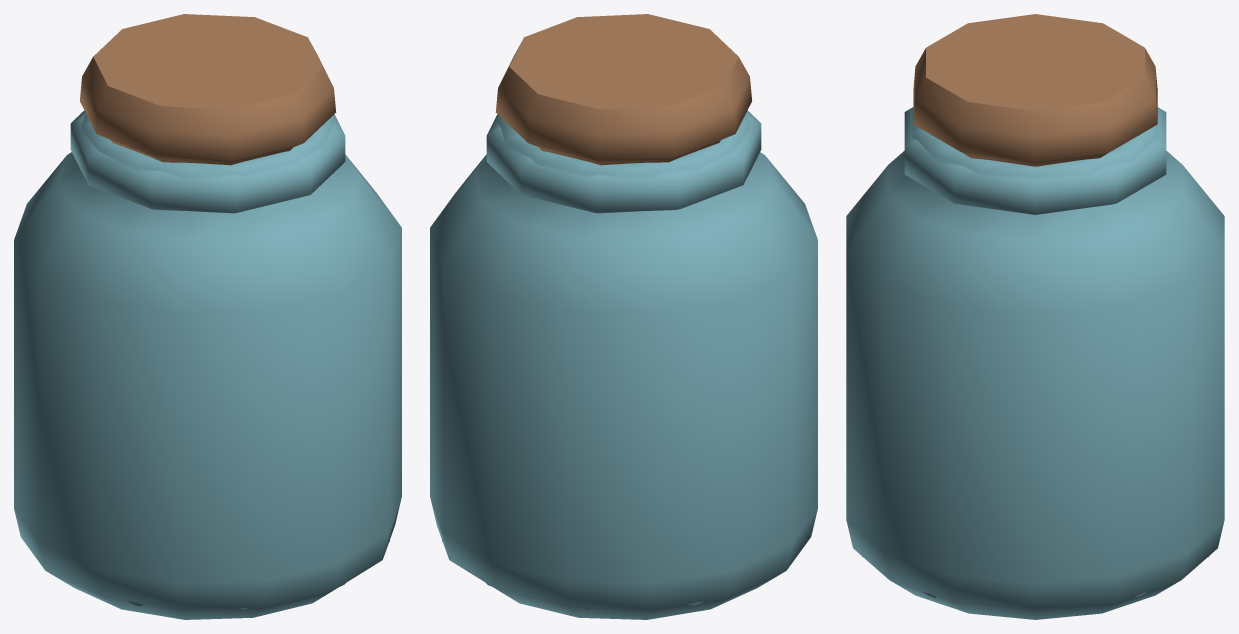
Rendered from rain_jar.glb.
3 views of the same model, side by side, from view 1: azimuth 30°, elevation 25°; view 2: azimuth 150°, elevation 25°; view 3: azimuth 270°, elevation 25° (orthographic).
Visible parts, largest first — view 1: rain_jar; view 2: rain_jar; view 3: rain_jar.
Part boxes in pixels (x1,y1,x2,y2): rain_jar: (14,14,401,619); rain_jar: (430,14,817,619); rain_jar: (846,14,1224,619).
Size of the model in its own units: 0.172 by 0.241 by 0.1677.
